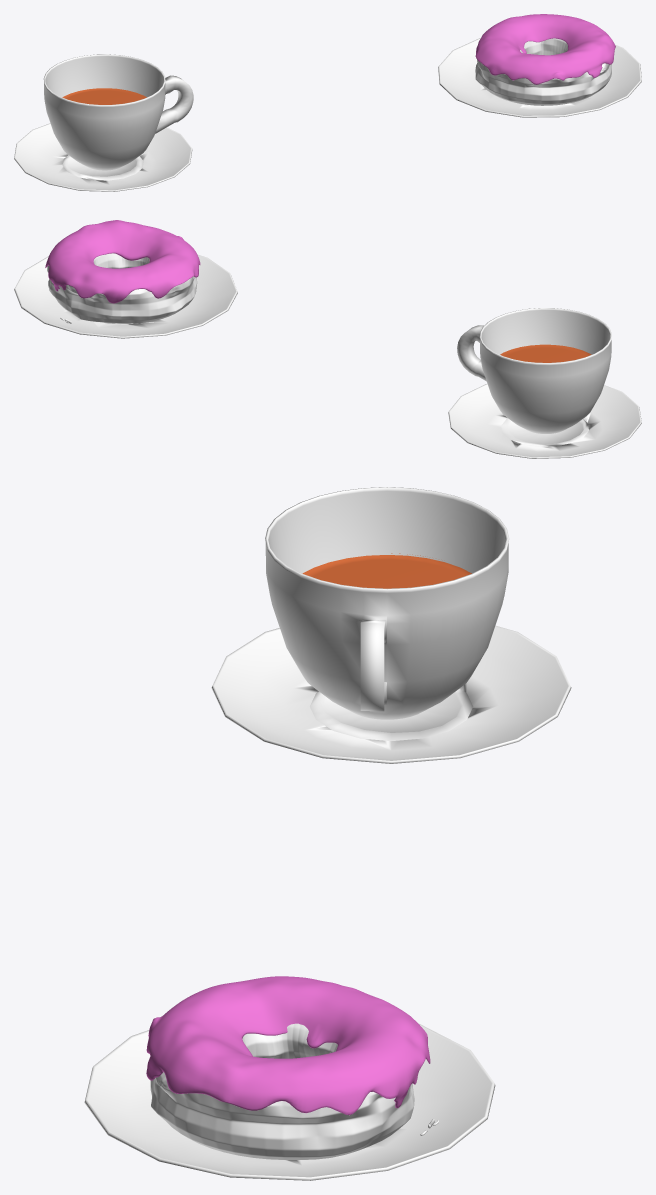
Rendered from donut.glb.
The picture shows the model from 3 angles, top to bottom: view 1: azimuth 30°, elevation 25°; view 2: azimuth 150°, elevation 25°; view 3: azimuth 270°, elevation 25°; orthographic projection. The views are drawn at different scales.
Parts seen in each view (by area): view 1: cup, icing, plate, plate.001, donut, coffee; view 2: cup, icing, plate, plate.001, donut, coffee; view 3: cup, icing, plate, plate.001, donut, coffee.
Boxes of the visible parts, <box> form: cup: <box>43,54,193,170</box>; icing: <box>475,14,615,84</box>; plate: <box>14,123,192,191</box>; plate.001: <box>438,38,641,117</box>; donut: <box>475,38,611,105</box>; coffee: <box>62,88,146,104</box>; cup: <box>457,308,611,433</box>; icing: <box>45,220,200,303</box>; plate: <box>448,384,641,458</box>; plate.001: <box>14,255,237,338</box>; donut: <box>47,253,197,323</box>; coffee: <box>500,344,591,362</box>; cup: <box>265,487,509,719</box>; icing: <box>146,976,430,1115</box>; plate: <box>211,625,571,763</box>; plate.001: <box>84,1024,495,1180</box>; donut: <box>150,1023,414,1159</box>; coffee: <box>302,553,471,588</box>.
Bounding box in the file's own units: 0.54 × 0.0802 × 0.1969.
